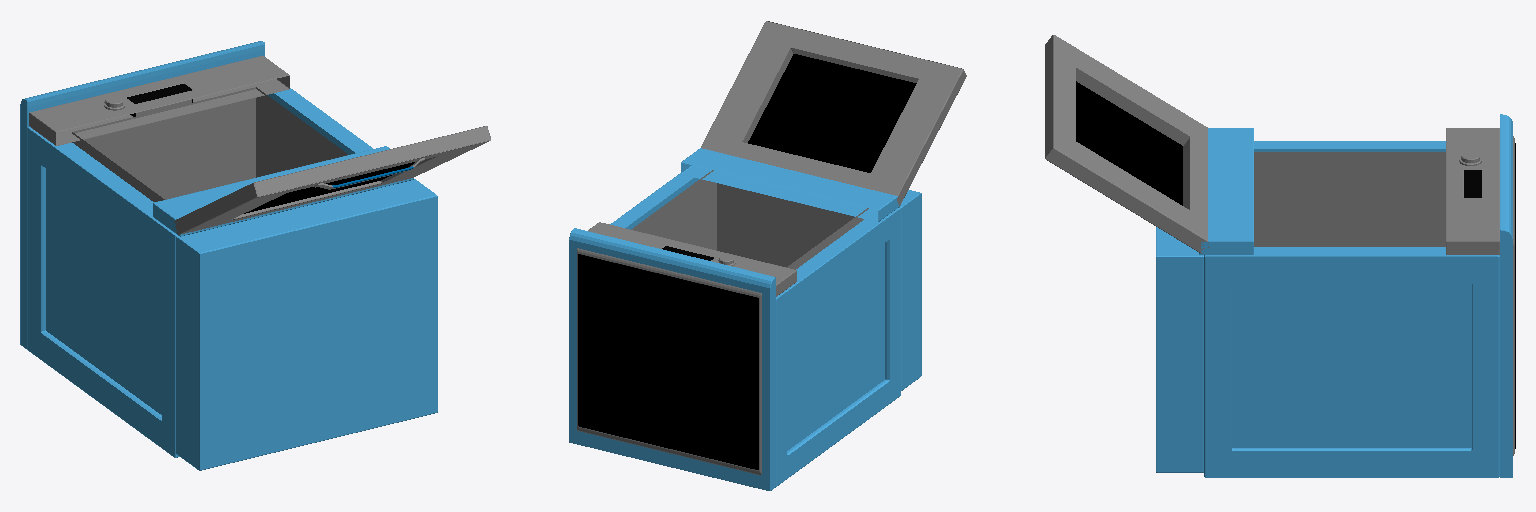
robot.urdf — 101:
<robot name="101">


	<link name="0:virtual">
		<visual>
			<origin xyz="0.0 0.0 0.0" rpy="0 0 0"/>
			<geometry>
				<cylinder length="0" radius="0"/>
			</geometry>
		</visual>
	</link>


	<link name="1:static">
		<visual>
			<origin xyz="-0.0 -0.0 -0.0" rpy="0 0 0"/>
			<geometry>
				<mesh filename="../raw_data/101/part_meshes/1.dae" />
			</geometry>
		</visual>
	</link>


	<link name="2:dial 1">
		<visual>
			<origin xyz="-0.11667504534125328 -0.6887584924697876 -0.2776990085840225" rpy="0 0 0"/>
			<geometry>
				<mesh filename="../raw_data/101/part_meshes/2.dae" />
			</geometry>
		</visual>
	</link>


	<link name="3:dial 2">
		<visual>
			<origin xyz="0.11667510122060776 -0.6887584924697876 -0.2776990085840225" rpy="0 0 0"/>
			<geometry>
				<mesh filename="../raw_data/101/part_meshes/3.dae" />
			</geometry>
		</visual>
	</link>


	<link name="4:oven door 1">
		<visual>
			<origin xyz="-0.0 -0.16499998750669992 -0.23601500689983368" rpy="0 0 0"/>
			<geometry>
				<mesh filename="../raw_data/101/part_meshes/4.dae" />
			</geometry>
		</visual>
	</link>


	<joint name="0:virtual::1:static" type="fixed">
		<parent link="0:virtual"/>
		<child link="1:static"/>
		<origin xyz="0.0 0.0 0.0" rpy="0 0 0"/>
	</joint>


	<joint name="0:virtual::2:dial 1_rotation" type="revolute">
		<parent link="0:virtual"/>
		<child link="2:dial 1"/>
		<origin xyz="0.11667504534125328 0.6887584924697876 0.2776990085840225" rpy="0 0 0"/>
		<limit lower="-3.141592653589793" upper="3.141592653589793" effort="10" velocity="3"/>
		<axis xyz="0.0 0.0 1.0"/>
	</joint>


	<joint name="0:virtual::3:dial 2_rotation" type="revolute">
		<parent link="0:virtual"/>
		<child link="3:dial 2"/>
		<origin xyz="-0.11667510122060776 0.6887584924697876 0.2776990085840225" rpy="0 0 0"/>
		<limit lower="-3.141592653589793" upper="3.141592653589793" effort="10" velocity="3"/>
		<axis xyz="0.0 0.0 1.0"/>
	</joint>


	<joint name="0:virtual::4:oven door 1_rotation" type="revolute">
		<parent link="0:virtual"/>
		<child link="4:oven door 1"/>
		<origin xyz="0.0 0.16499998750669992 0.23601500689983368" rpy="0 0 0"/>
		<limit lower="1.9634954084936207" upper="3.141592653589793" effort="10" velocity="3"/>
		<axis xyz="1.0 0.0 0.0"/>
	</joint>


</robot>

--- What the picture shows (computed from the rendered views, not written in the file) ---
3 views of the same robot in one strip: view 1: azimuth 30°, elevation 25°; view 2: azimuth 150°, elevation 25°; view 3: azimuth 270°, elevation 25° (orthographic).
Model 101 with 5 links and 4 joints (3 revolute, 1 fixed), rooted at 0:virtual, posed all joints at 0 but 1 set to mid-range because 0 is outside their limits (0:virtual::4:oven door 1_rotation = 2.55).
Visible links, largest first — view 1: 1:static, 4:oven door 1; view 2: 1:static, 4:oven door 1; view 3: 1:static, 4:oven door 1.
Boxes of the visible links, bbox=[...] form: 1:static: bbox=[20, 41, 437, 470]; 4:oven door 1: bbox=[174, 126, 490, 234]; 1:static: bbox=[569, 148, 921, 490]; 4:oven door 1: bbox=[701, 21, 966, 205]; 1:static: bbox=[1156, 114, 1515, 477]; 4:oven door 1: bbox=[1045, 35, 1208, 253].
Size in the robot's own frame: 0.6004 by 1.03 by 0.7963 metres.
4 mesh visuals loaded from 4 distinct referenced files (4 Collada DAE).